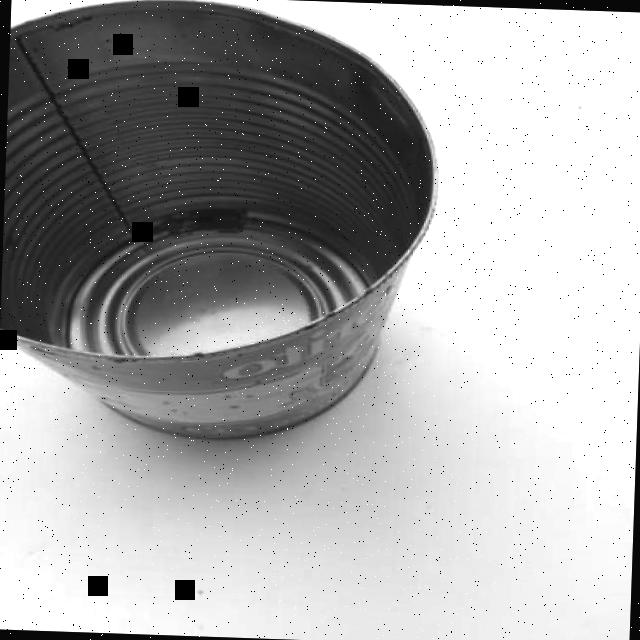can: (0, 0, 446, 454)
